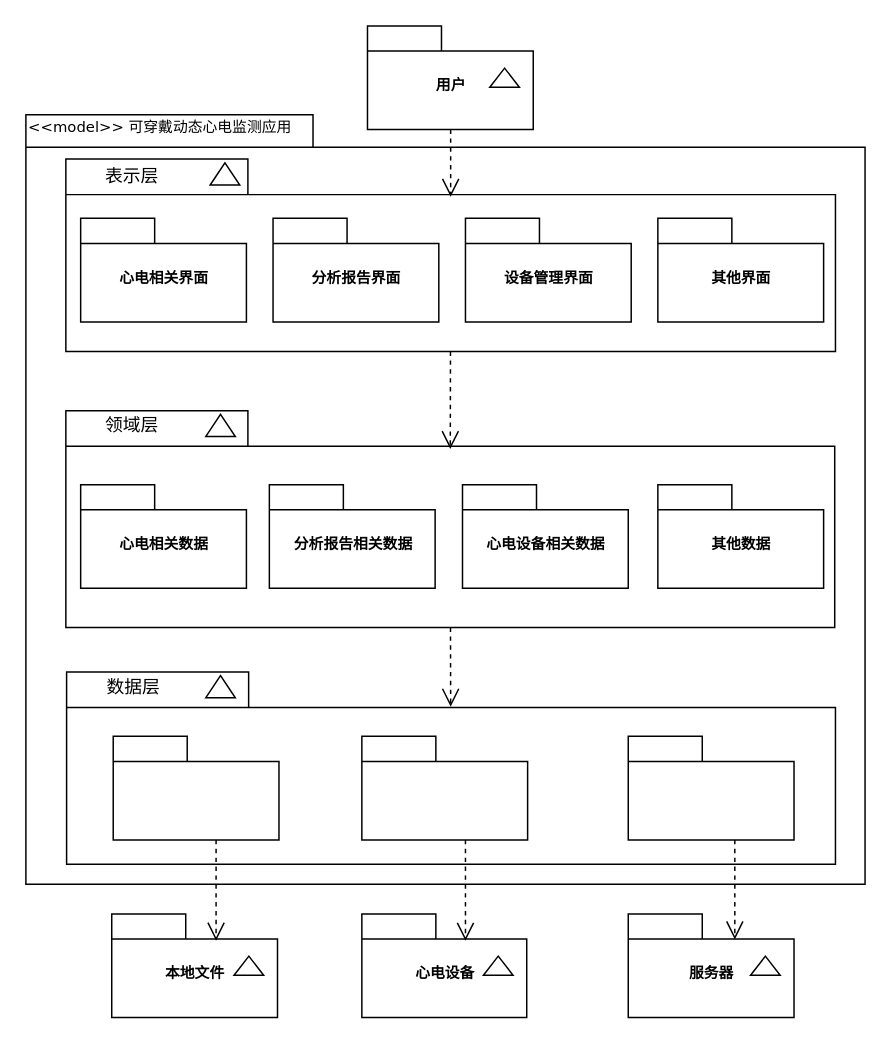
The diagram is 891 pixels wide and 1043 high, and some of its shapes have lost their labels. The shapes that lost their labels are listed below. From the top down, each one's centre as x and y in pixels, then its label:
At (x=195, y=787): "数据库模块".
At (x=444, y=787): "心电设备模块".
At (x=710, y=787): "服务器模块".
